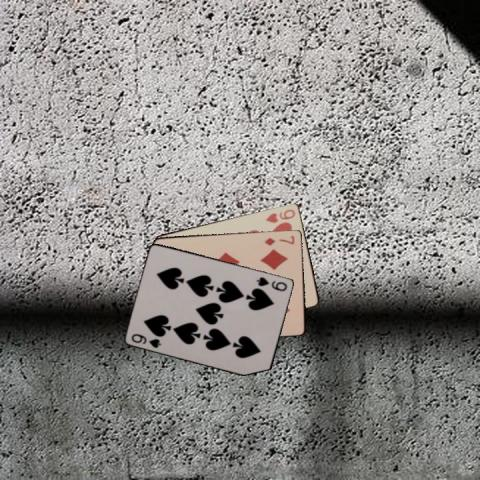7d: (261, 232, 296, 246)
9h: (262, 206, 296, 224)
9s: (254, 273, 289, 293), (128, 331, 162, 349)
